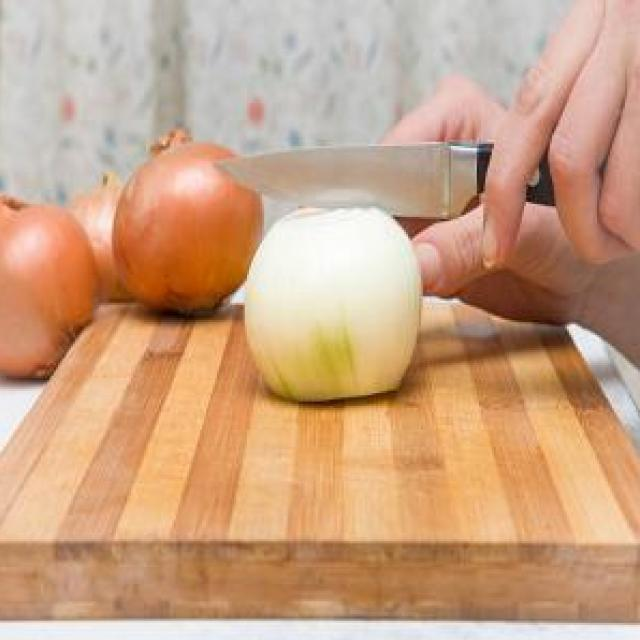knife: (207, 135, 595, 219)
